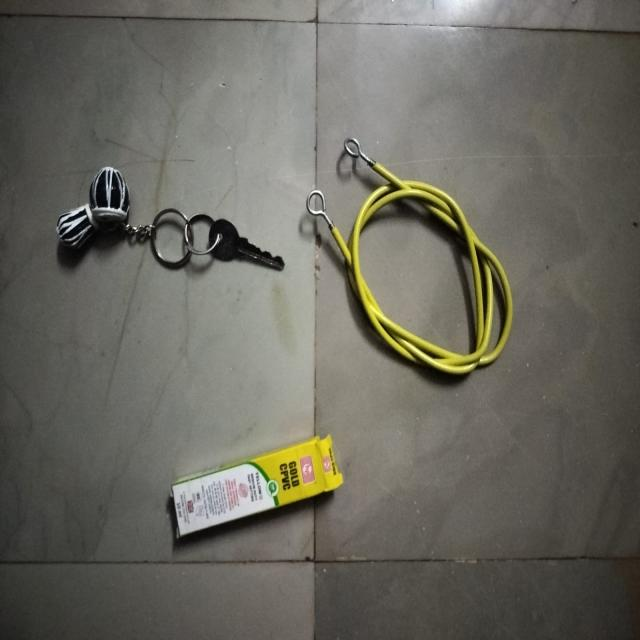metal: (134, 196, 288, 312), (334, 121, 383, 172), (300, 187, 339, 232)
paper: (156, 415, 364, 596)
plastic: (374, 152, 524, 436), (35, 164, 129, 259)
